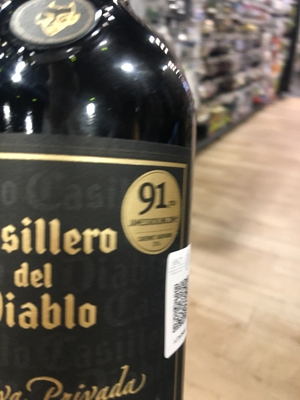casillero del diablo reserva privada cabernet sauvignon: (1, 5, 196, 400)
